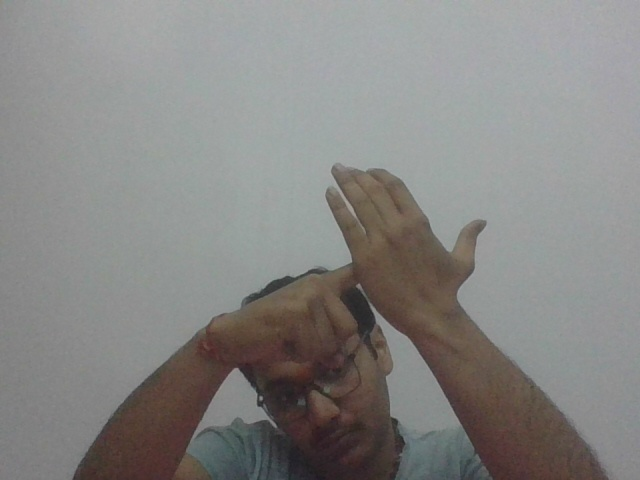R: (247, 161, 486, 353)
